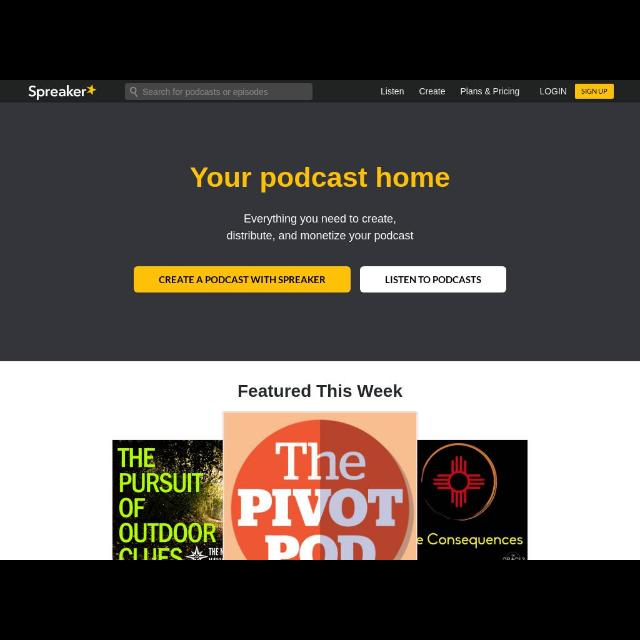icon: (128, 86, 140, 100)
image: (222, 410, 418, 558), (418, 439, 526, 559), (111, 442, 221, 558), (26, 84, 98, 102)
input: (126, 82, 314, 100)
text: (228, 213, 417, 244), (190, 168, 450, 190), (237, 382, 403, 400), (382, 273, 483, 287), (156, 276, 328, 284), (142, 88, 270, 96), (459, 85, 521, 98), (540, 86, 568, 96), (379, 86, 405, 96), (580, 86, 608, 95), (419, 88, 445, 96)
textbutton: (133, 266, 351, 292), (359, 266, 505, 292), (576, 82, 612, 98)
toolbar: (1, 82, 640, 104)
